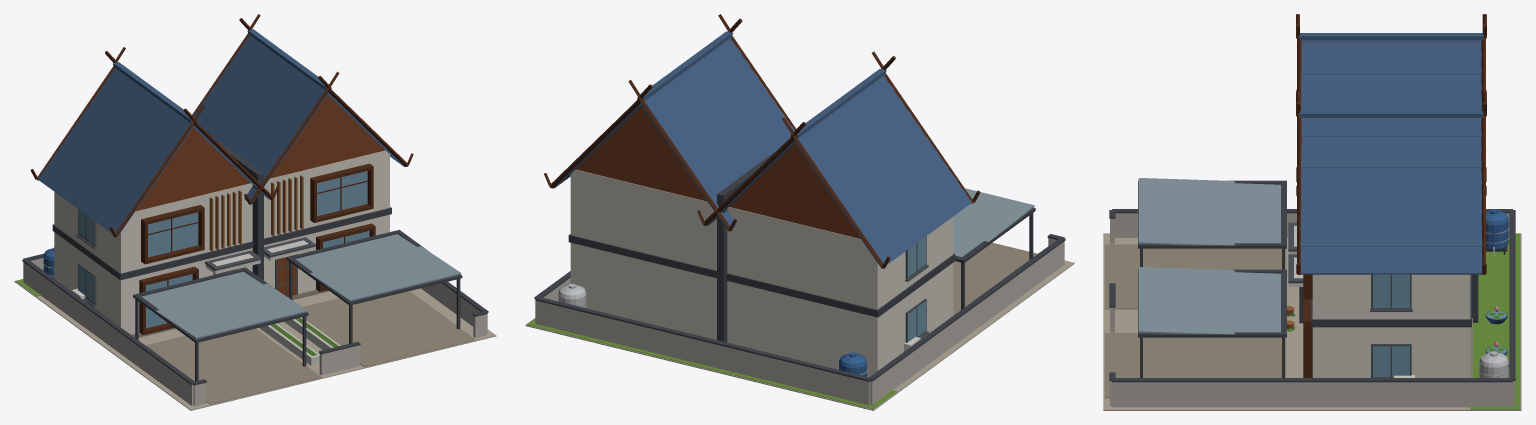
The model's file is home_2.glb.
3 renders of one model, left to right at view 1: azimuth 30°, elevation 25°; view 2: azimuth 150°, elevation 25°; view 3: azimuth 270°, elevation 25°, orthographic. The views are drawn at different scales.
Parts seen in each view (by area): view 1: body; view 2: body; view 3: body.
Boxes of the visible parts, <box> form: body: <box>14,14,496,410</box>; body: <box>525,14,1074,410</box>; body: <box>1103,14,1521,410</box>.
Size of the model in its own units: 15.9 by 11.32 by 15.9.
